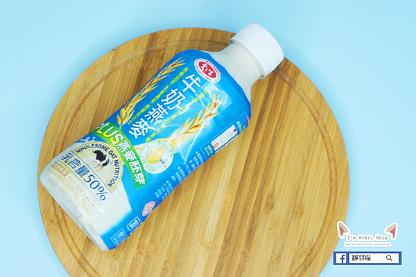Plastic Bottle: (40, 24, 283, 251)
